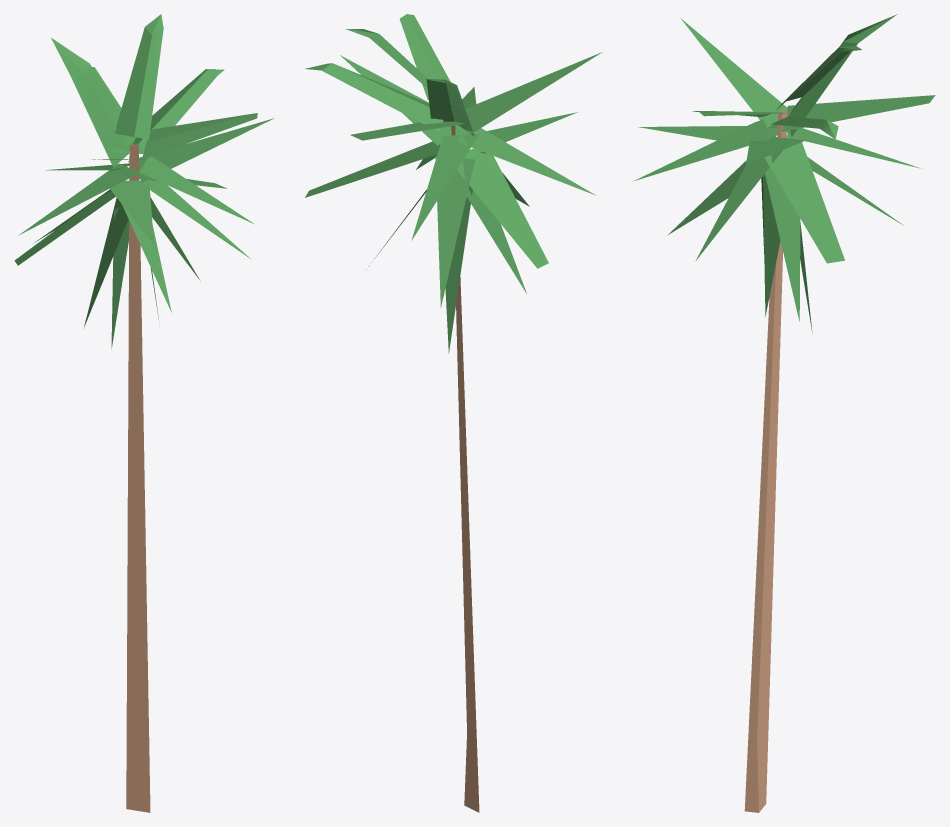
Rendered from tree_palm_coco_F_LOD3.fbx.
The picture shows the model from 3 angles, left to right: view 1: azimuth 30°, elevation 25°; view 2: azimuth 150°, elevation 25°; view 3: azimuth 270°, elevation 25°; orthographic projection. The views are drawn at different scales.
Visible parts, largest first — view 1: trunk_coco_F, leaf_cocotree_F_3, leaf_cocotree_F_2, leaf_cocotree_F_4, leaf_cocotree_F_8, leaf_cocotree_F_9, leaf_cocotree_F_17, leaf_cocotree_F_13, leaf_cocotree_F_10, leaf_cocotree_F_20, leaf_cocotree_F_14, leaf_cocotree_F_21 (+3 smaller); view 2: trunk_coco_F, leaf_cocotree_F_15, leaf_cocotree_F_18, leaf_cocotree_F_8, leaf_cocotree_F_7, leaf_cocotree_F_11, leaf_cocotree_F_10, leaf_cocotree_F_2, leaf_cocotree_F_4, leaf_cocotree_F_12, leaf_cocotree_F_21, leaf_cocotree_F_20 (+4 smaller); view 3: trunk_coco_F, leaf_cocotree_F_12, leaf_cocotree_F_16, leaf_cocotree_F_7, leaf_cocotree_F_6, leaf_cocotree_F_13, leaf_cocotree_F_14, leaf_cocotree_F_2, leaf_cocotree_F_22, leaf_cocotree_F_11, leaf_cocotree_F_17, leaf_cocotree_F_19 (+4 smaller).
Part boxes in pixels (<box>): trunk_coco_F: <box>126,144,150,812</box>; leaf_cocotree_F_3: <box>114,14,163,139</box>; leaf_cocotree_F_2: <box>51,38,143,167</box>; leaf_cocotree_F_4: <box>142,113,257,159</box>; leaf_cocotree_F_8: <box>132,69,224,149</box>; leaf_cocotree_F_9: <box>128,118,274,182</box>; leaf_cocotree_F_17: <box>110,180,153,244</box>; leaf_cocotree_F_13: <box>139,156,253,223</box>; leaf_cocotree_F_10: <box>18,163,139,235</box>; leaf_cocotree_F_20: <box>83,198,128,328</box>; leaf_cocotree_F_14: <box>142,178,251,259</box>; leaf_cocotree_F_21: <box>111,207,129,348</box>; trunk_coco_F: <box>451,125,479,812</box>; leaf_cocotree_F_15: <box>457,148,548,268</box>; leaf_cocotree_F_18: <box>435,155,475,307</box>; leaf_cocotree_F_8: <box>305,63,443,131</box>; leaf_cocotree_F_7: <box>465,52,602,134</box>; leaf_cocotree_F_11: <box>411,134,479,240</box>; leaf_cocotree_F_10: <box>456,128,596,195</box>; leaf_cocotree_F_2: <box>426,78,474,136</box>; leaf_cocotree_F_4: <box>399,14,466,111</box>; leaf_cocotree_F_12: <box>305,141,440,197</box>; leaf_cocotree_F_21: <box>445,185,472,353</box>; leaf_cocotree_F_20: <box>466,188,526,293</box>; trunk_coco_F: <box>744,110,787,812</box>; leaf_cocotree_F_12: <box>764,134,844,263</box>; leaf_cocotree_F_16: <box>765,167,800,321</box>; leaf_cocotree_F_7: <box>680,18,787,127</box>; leaf_cocotree_F_6: <box>781,95,935,131</box>; leaf_cocotree_F_13: <box>633,119,770,181</box>; leaf_cocotree_F_14: <box>695,150,782,261</box>; leaf_cocotree_F_2: <box>788,14,896,136</box>; leaf_cocotree_F_22: <box>763,176,780,316</box>; leaf_cocotree_F_11: <box>786,128,920,168</box>; leaf_cocotree_F_17: <box>638,126,777,140</box>; leaf_cocotree_F_19: <box>667,160,765,235</box>.
Bounding box in the file's own units: 424 × 1208 × 418.
